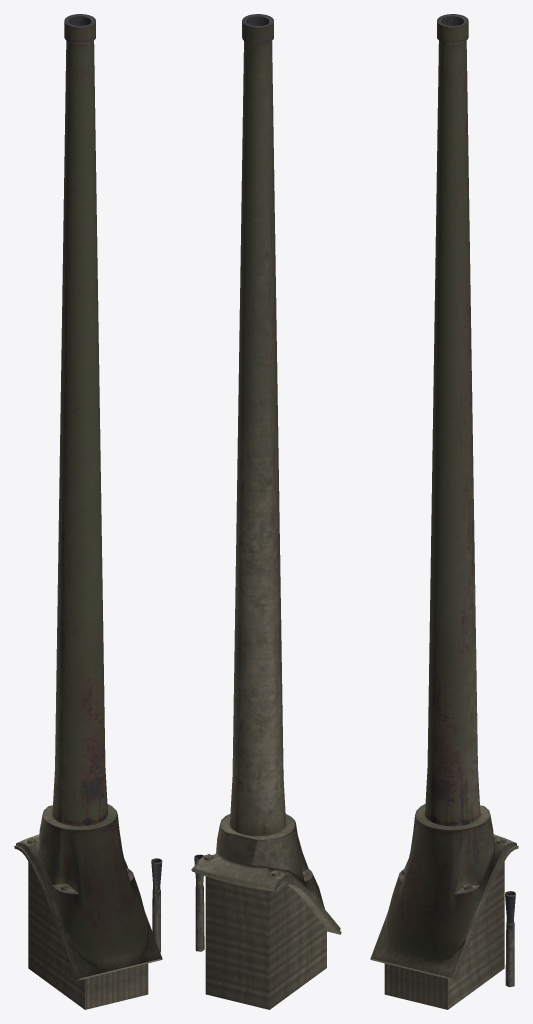
File: Gun_01.glb
3 renders of one model, left to right at view 1: azimuth 30°, elevation 25°; view 2: azimuth 150°, elevation 25°; view 3: azimuth 330°, elevation 25°, orthographic.
Parts seen in each view (by area): view 1: set_0_group_0; view 2: set_0_group_0; view 3: set_0_group_0.
Boxes of the visible parts, bbox=[...] form: set_0_group_0: bbox=[14, 14, 162, 1009]; set_0_group_0: bbox=[191, 14, 341, 1009]; set_0_group_0: bbox=[370, 14, 518, 1009].
Bounding box in the file's own units: 0.578 × 4.6 × 0.5904.
1 material, 1 textured.
